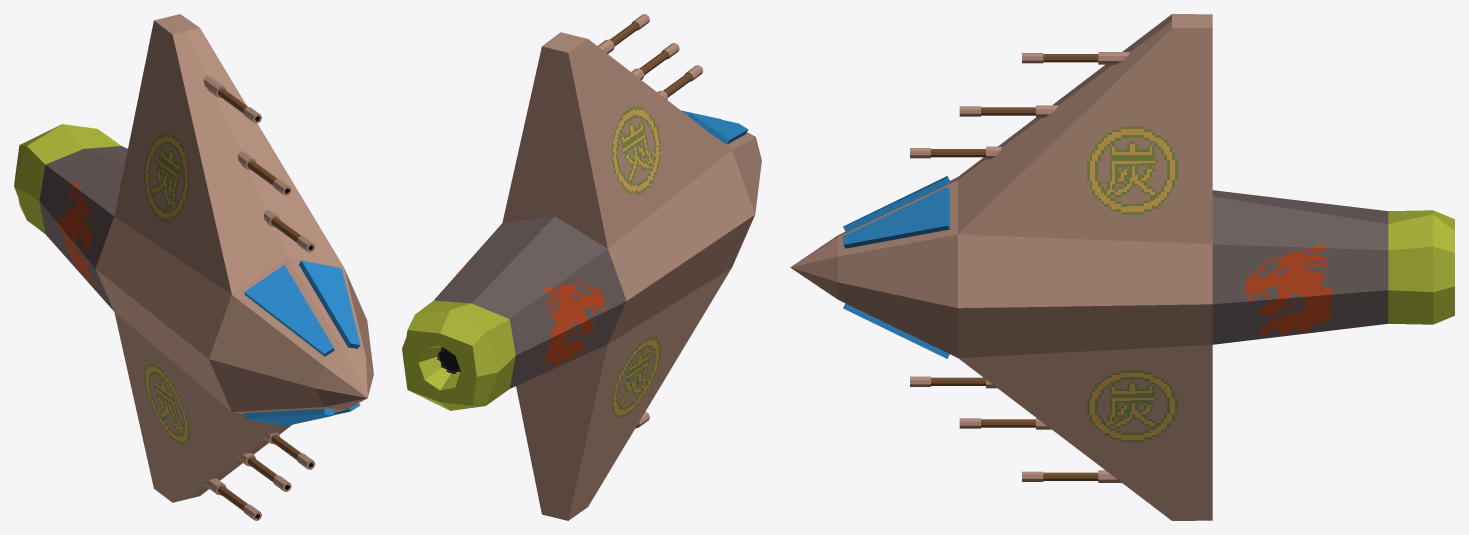
The model's file is boss.glb.
The picture shows the model from 3 angles, left to right: view 1: azimuth 30°, elevation 25°; view 2: azimuth 150°, elevation 25°; view 3: azimuth 270°, elevation 25°; orthographic projection. The views are drawn at different scales.
Visible parts, largest first — view 1: Boss; view 2: Boss; view 3: Boss.
Part boxes in pixels (<box>): Boss: <box>14,14,373,520</box>; Boss: <box>402,14,761,520</box>; Boss: <box>790,14,1454,520</box>.
Size of the model in its own units: 2.41 by 6.81 by 8.33.
Materials: 1 (1 with a texture image).
